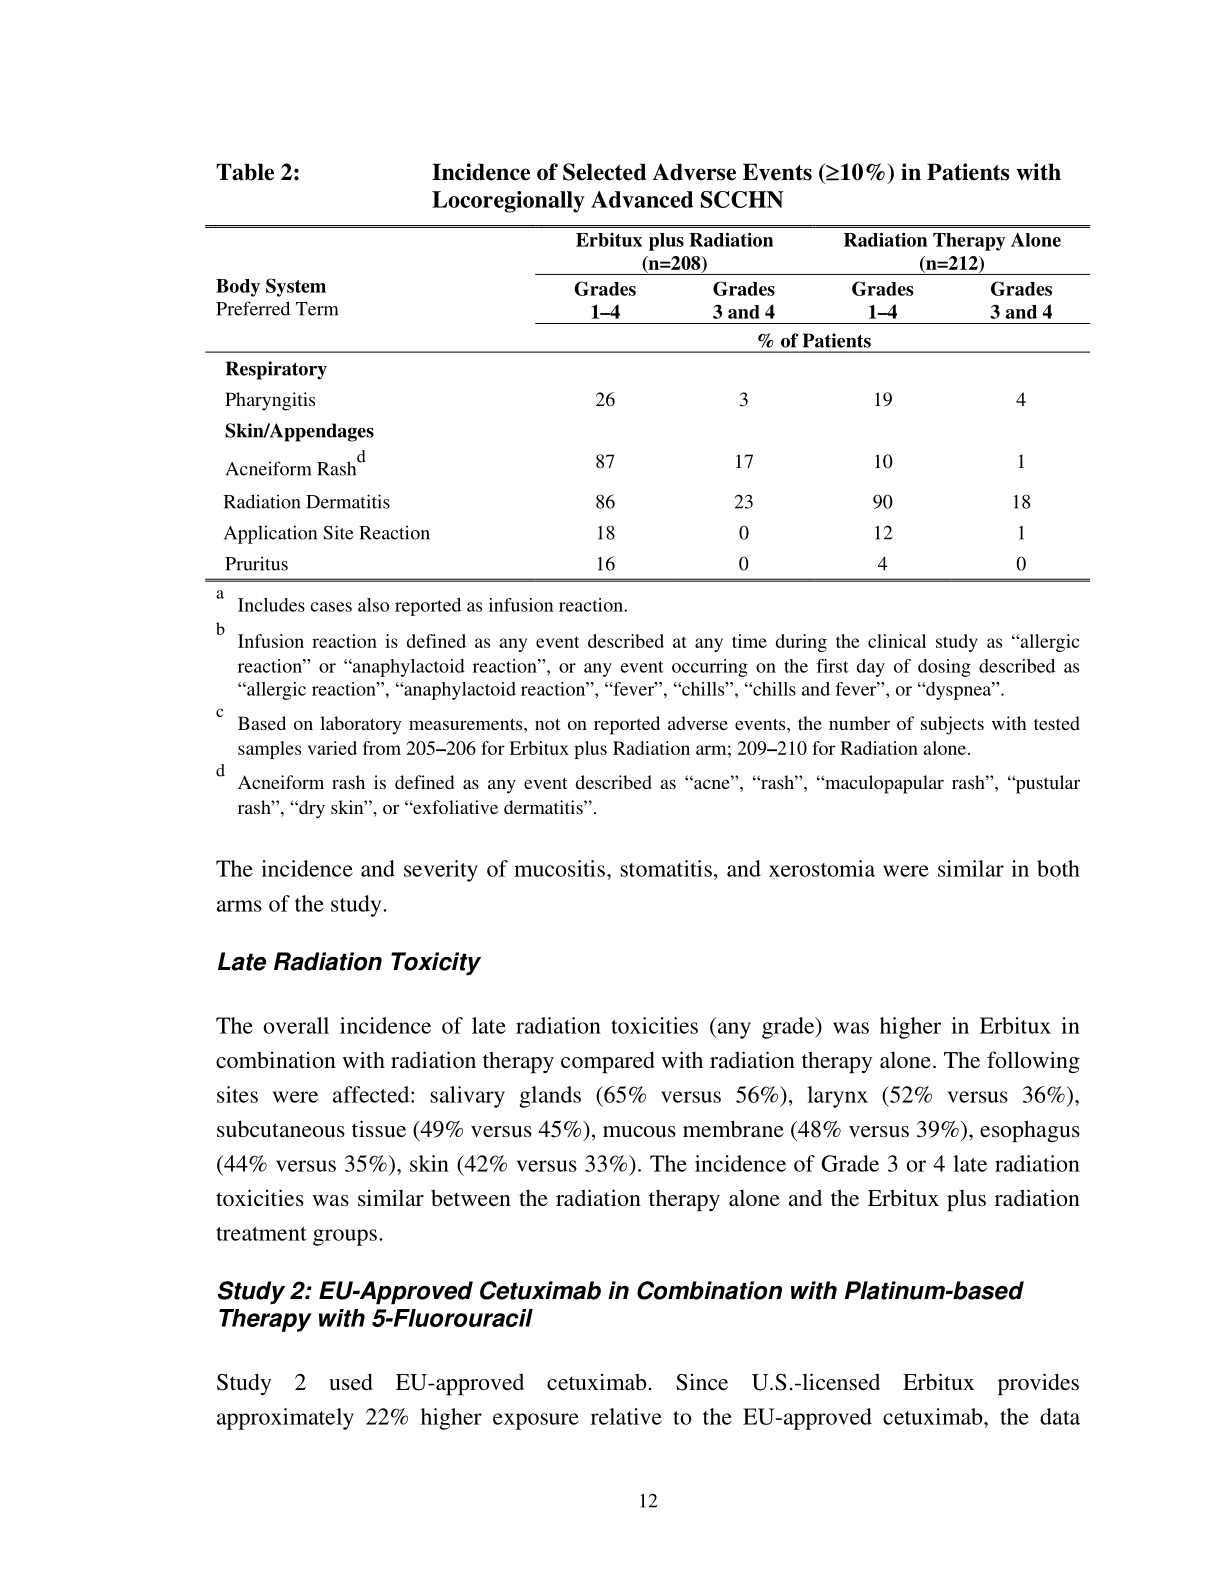partial_lined_merged_cells: (201, 216, 1102, 585)
